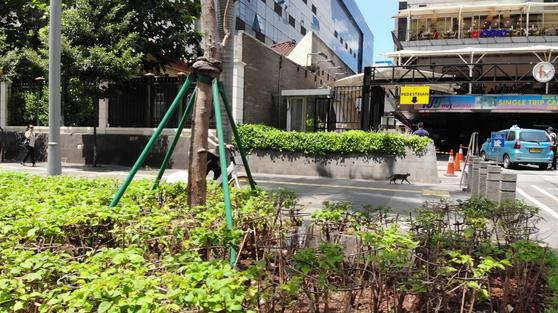bike: (195, 142, 261, 197)
